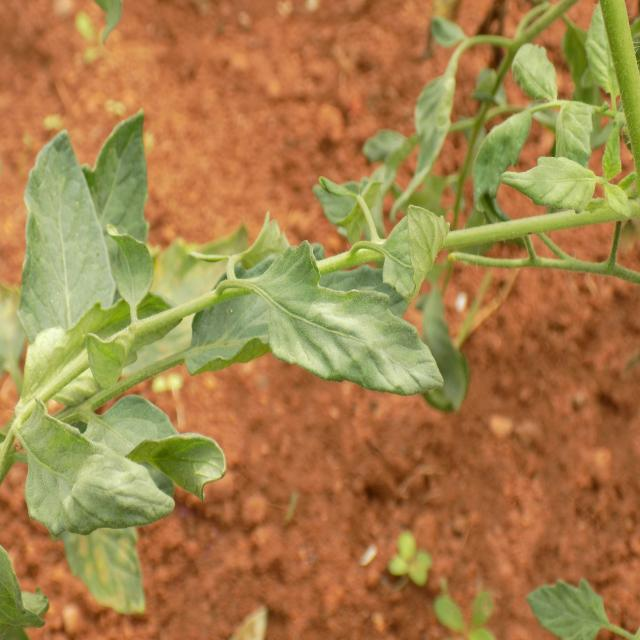tomato_healthy: (185, 242, 428, 378), (254, 240, 446, 407), (14, 121, 120, 389), (15, 400, 173, 526)
